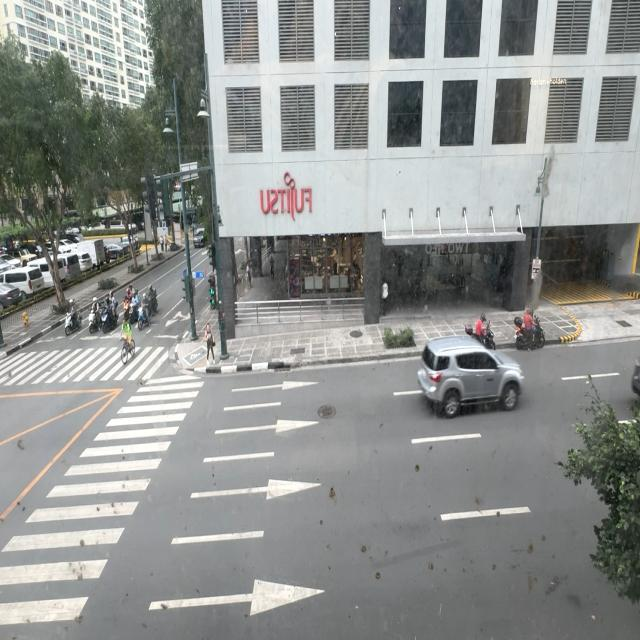waiting: (202, 322, 215, 366)
